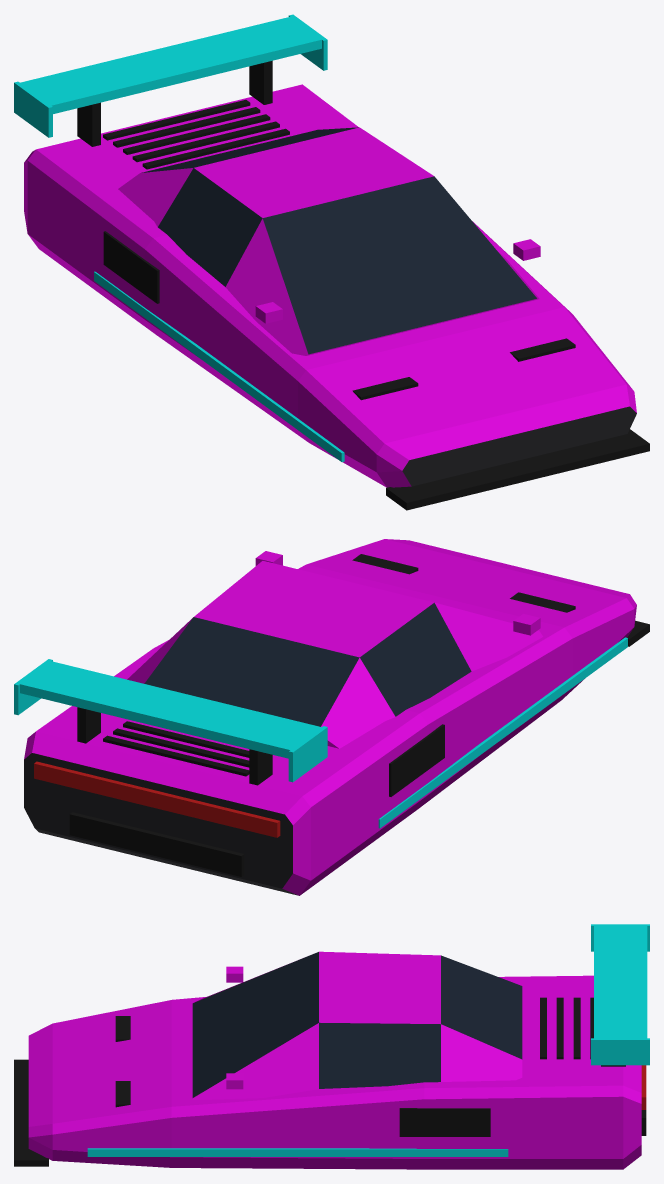
File: car_gt.glb
The picture shows the model from 3 angles, top to bottom: view 1: azimuth 30°, elevation 25°; view 2: azimuth 150°, elevation 25°; view 3: azimuth 270°, elevation 25°; orthographic projection. The views are drawn at different scales.
Visible parts, largest first — view 1: car_gt_body; view 2: car_gt_body; view 3: car_gt_body.
Boxes of the visible parts, x1=… form: car_gt_body: x1=14, y1=14, x2=649, y2=510; car_gt_body: x1=14, y1=539, x2=649, y2=895; car_gt_body: x1=14, y1=924, x2=649, y2=1169.
Bounding box in the file's own units: 2.01 × 1.09 × 4.54.
